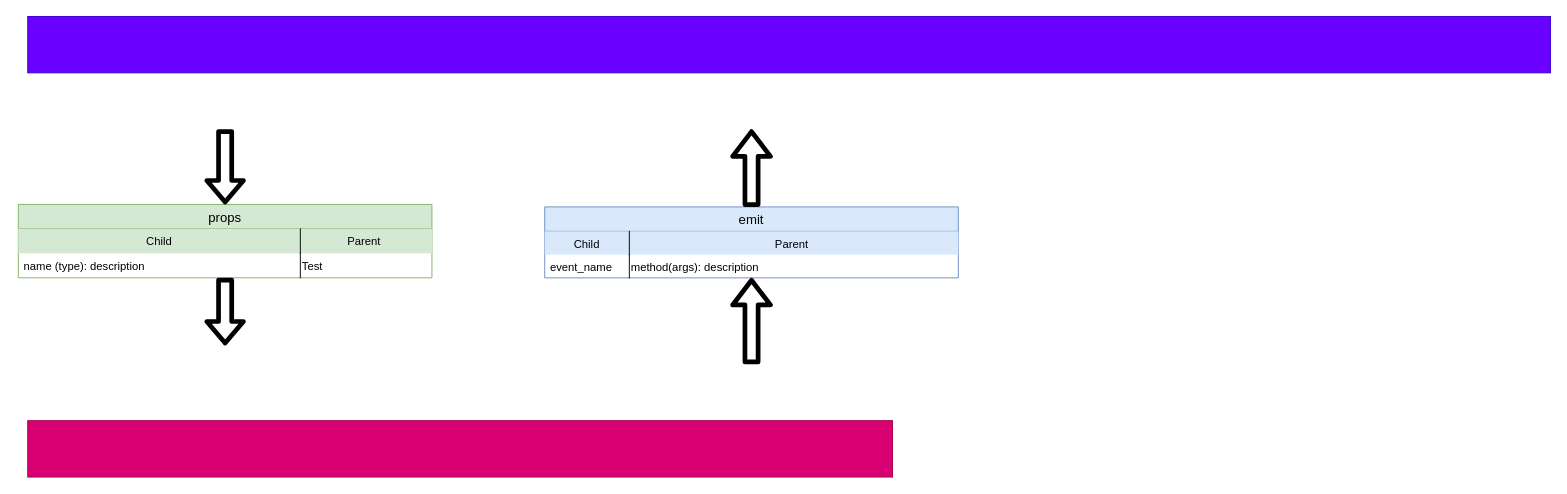
Image size: 1567x494. Some labels were removed from this diagram. Each missing label, with the centre of its shape:
<child-component>: the point at 460,448
v-app: the point at 789,44
